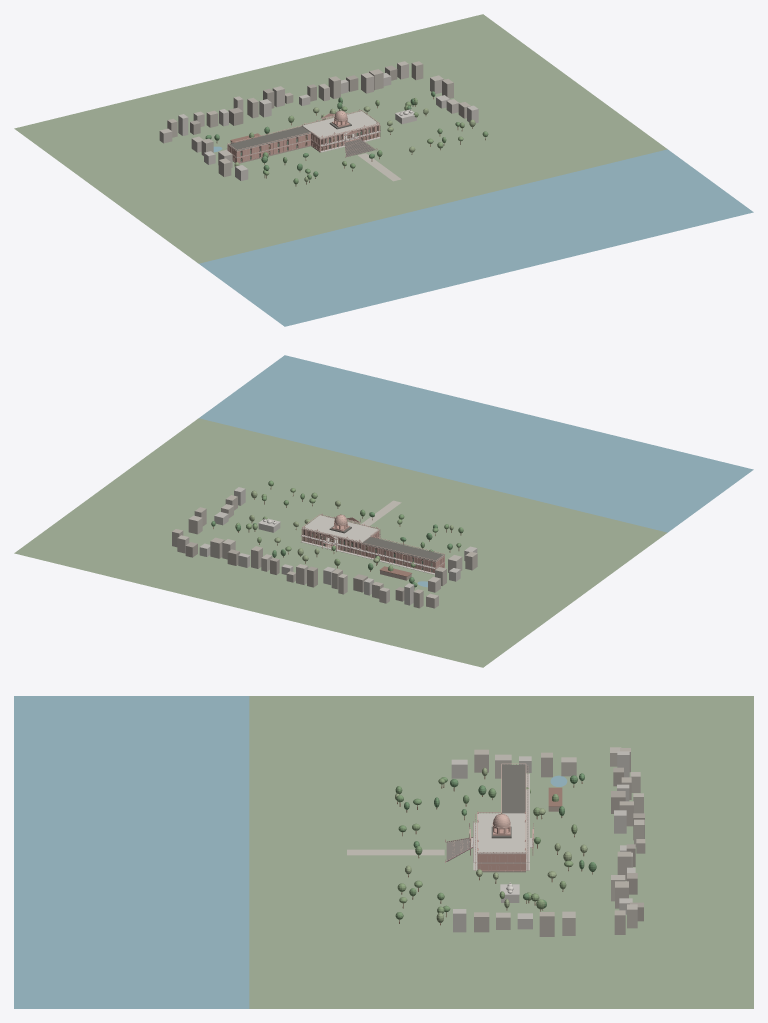
File: ahsan-manzil.glb
3 views of the same model, one above another, from view 1: azimuth 30°, elevation 25°; view 2: azimuth 150°, elevation 25°; view 3: azimuth 270°, elevation 25° (orthographic). The views are drawn at different scales.
Parts seen in each view (by area): view 1: Site_Ground, Site_River, Site_Context_Blocks, Site_Trees, Rangmahal_FF, Andarmahal, RoofDeck; view 2: Site_Ground, Site_River, Site_Context_Blocks, Site_Trees, Rangmahal_FF, Veranda_N, Andarmahal, RoofDeck; view 3: Site_Ground, Site_River, Site_Context_Blocks, Site_Trees, Rangmahal_FF, RoofDeck, Site_Approach.
Part boxes in pixels (bbox=[...]): Site_Ground: bbox=[14, 14, 667, 263]; Site_River: bbox=[199, 149, 753, 326]; Site_Context_Blocks: bbox=[159, 61, 478, 180]; Site_Trees: bbox=[205, 91, 488, 186]; Rangmahal_FF: bbox=[302, 111, 379, 145]; Andarmahal: bbox=[228, 133, 310, 162]; RoofDeck: bbox=[228, 122, 351, 150]; Site_Ground: bbox=[14, 418, 667, 667]; Site_River: bbox=[199, 355, 753, 532]; Site_Context_Blocks: bbox=[172, 487, 477, 608]; Site_Trees: bbox=[211, 480, 463, 589]; Rangmahal_FF: bbox=[302, 515, 379, 548]; Veranda_N: bbox=[301, 529, 435, 574]; Andarmahal: bbox=[361, 543, 444, 572]; RoofDeck: bbox=[329, 526, 444, 561]; Site_Ground: bbox=[249, 696, 753, 1008]; Site_River: bbox=[14, 696, 249, 1008]; Site_Context_Blocks: bbox=[451, 747, 645, 936]; Site_Trees: bbox=[395, 767, 596, 925]; Rangmahal_FF: bbox=[477, 813, 526, 862]; RoofDeck: bbox=[481, 765, 525, 853]; Site_Approach: bbox=[347, 849, 444, 855].
Size of the model in its own units: 440 by 27.13 by 440.
